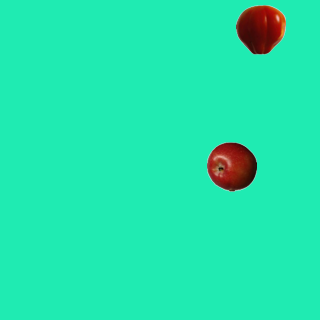Apple Braeburn: (206, 141, 256, 191)
Tomato 1: (235, 4, 285, 54)
